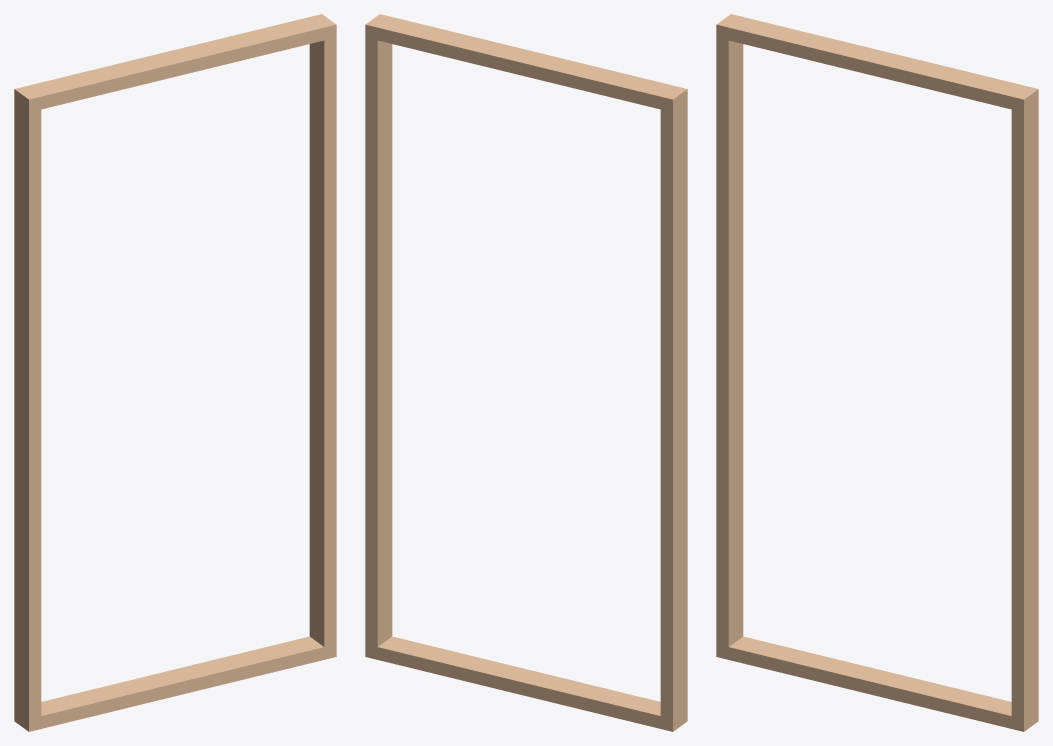
The model's file is frame.glb.
3 views of the same model, side by side, from view 1: azimuth 30°, elevation 25°; view 2: azimuth 150°, elevation 25°; view 3: azimuth 330°, elevation 25° (orthographic).
Parts seen in each view (by area): view 1: pictureFrame; view 2: pictureFrame; view 3: pictureFrame.
Boxes of the visible parts, <box> form: pictureFrame: <box>14,14,336,731</box>; pictureFrame: <box>365,14,687,731</box>; pictureFrame: <box>716,14,1038,731</box>.
Size of the model in its own units: 0.3001 by 0.5897 by 0.0246.
